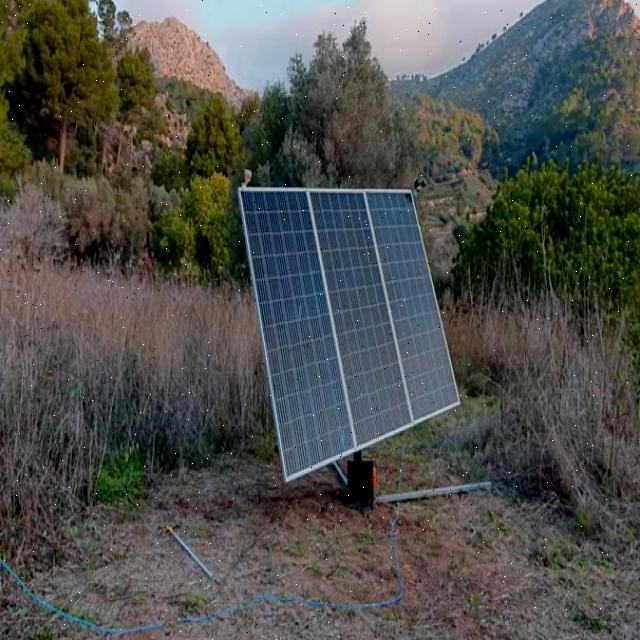Normal Solar Panel: (238, 189, 458, 481)
